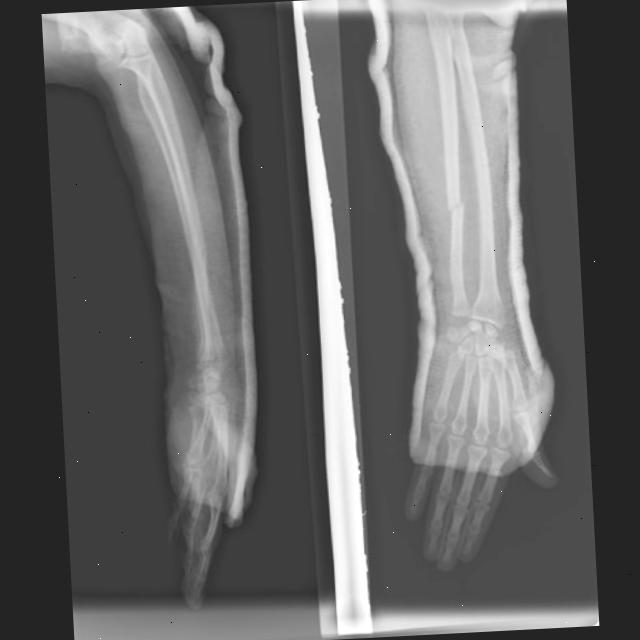fractured: (190, 341, 236, 375), (442, 191, 467, 220)
